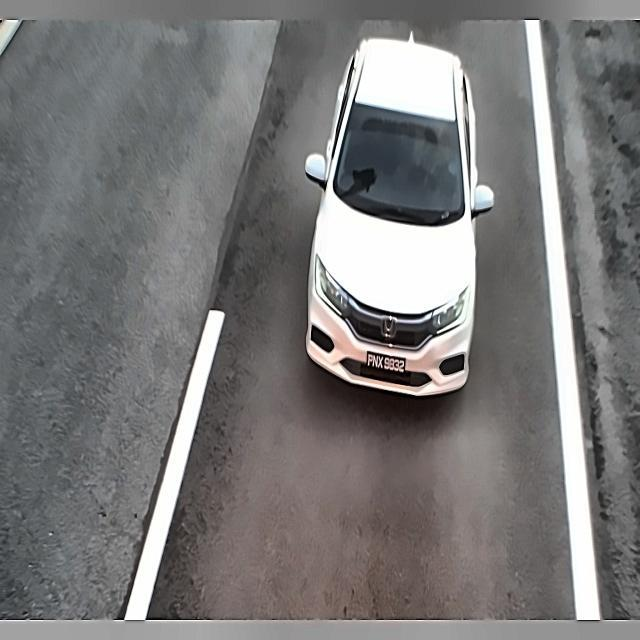car: (366, 341, 409, 382)
